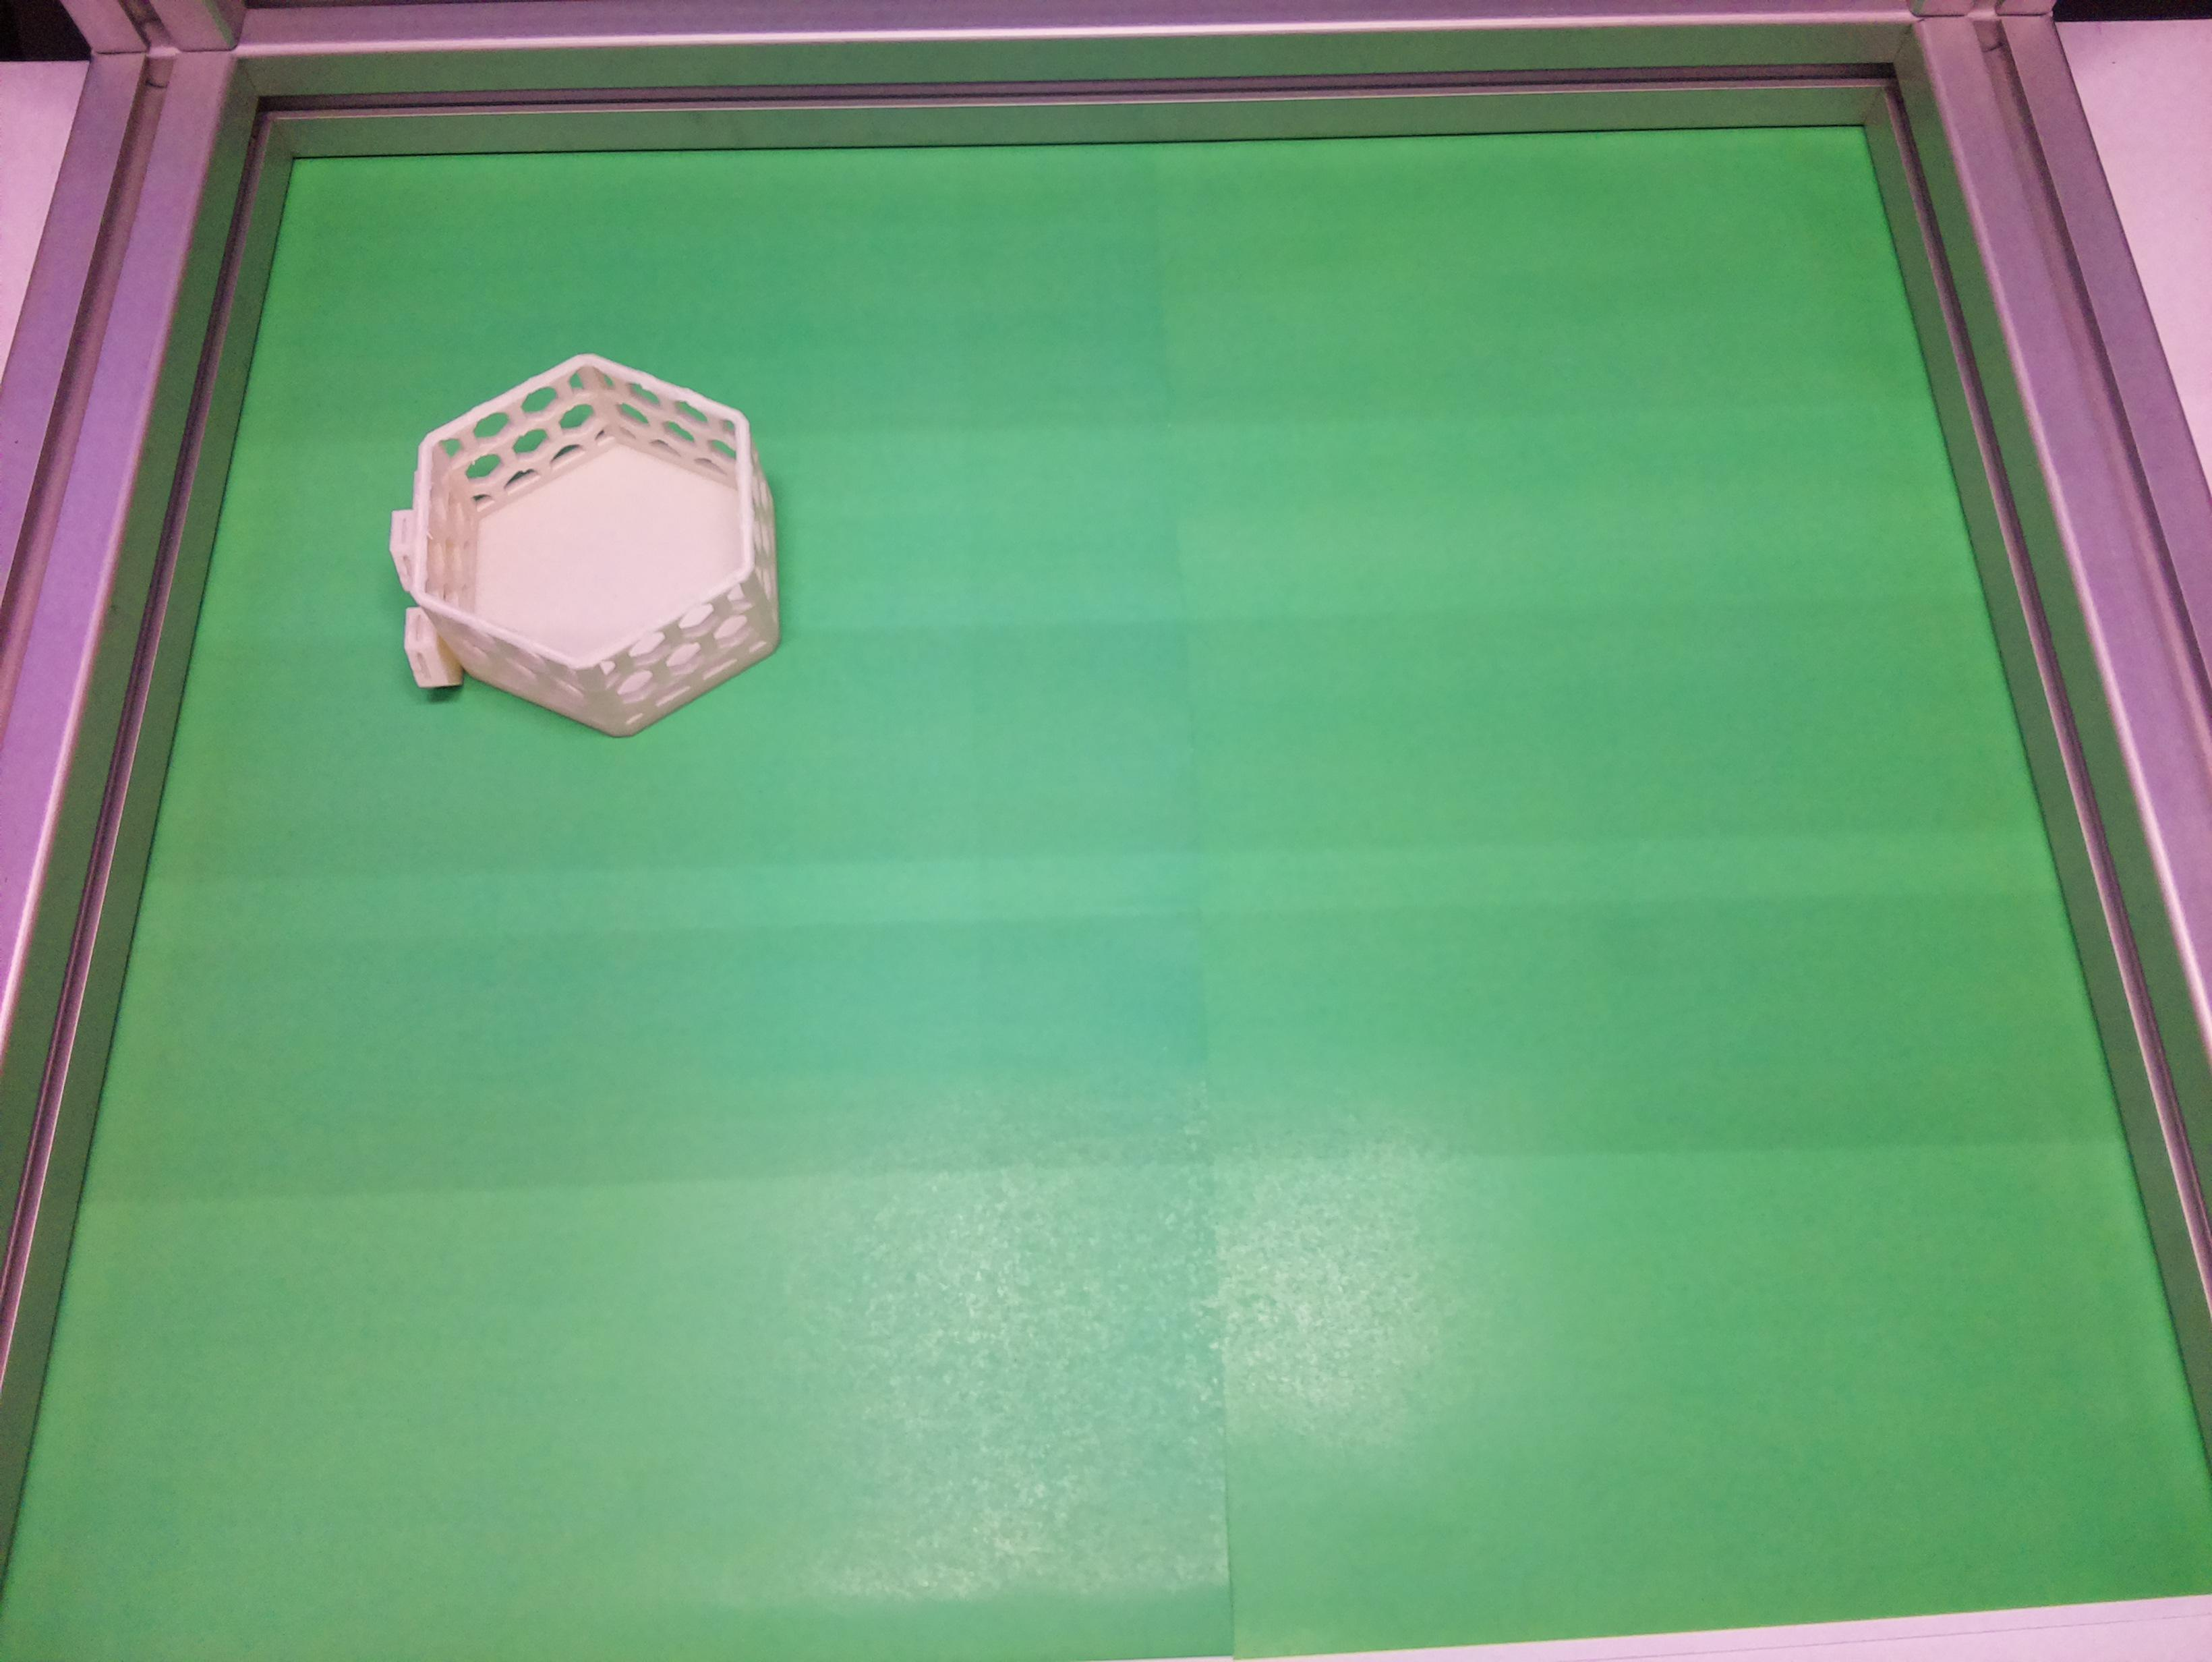bottle_holder: (381, 344, 786, 749)
